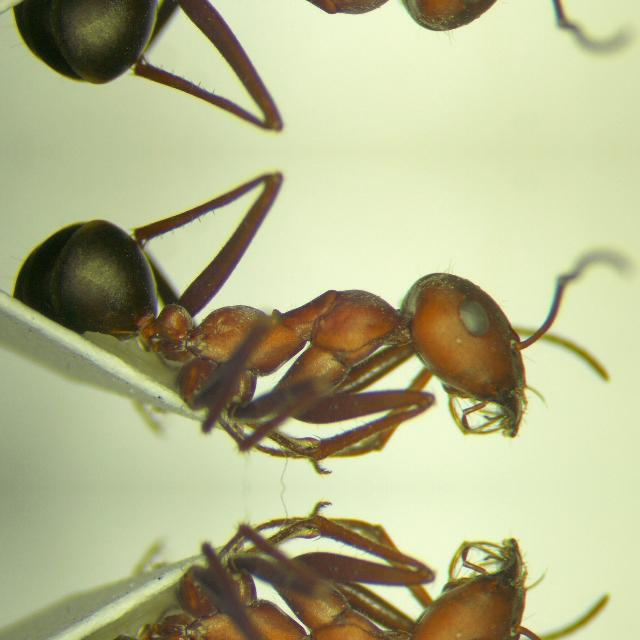Cataglyphis: (38, 242, 604, 486), (36, 488, 604, 640), (36, 0, 603, 58)
